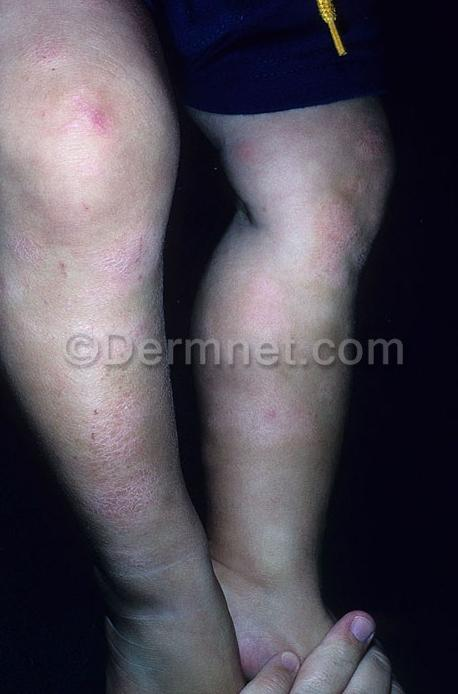eritema 1: (302, 191, 373, 285)
xerosis 2: (7, 226, 182, 525)
